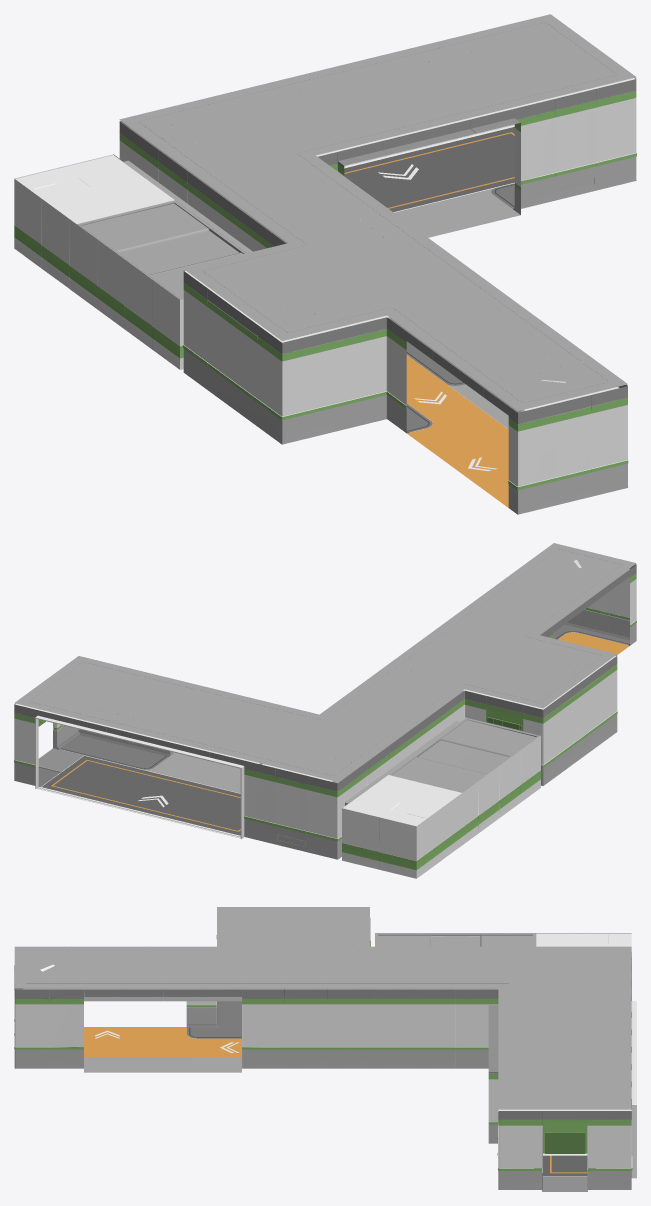
3 views of the same model, one above another, from view 1: azimuth 30°, elevation 25°; view 2: azimuth 150°, elevation 25°; view 3: azimuth 270°, elevation 25° (orthographic). The views are drawn at different scales.
Visible parts, largest first — view 1: SM_H_Building_FutureTech_HBlue_01_InterWall_02; view 2: SM_H_Building_FutureTech_HBlue_01_InterWall_02; view 3: SM_H_Building_FutureTech_HBlue_01_InterWall_02.
Part boxes in pixels (<box>): SM_H_Building_FutureTech_HBlue_01_InterWall_02: <box>14,14,636,514</box>; SM_H_Building_FutureTech_HBlue_01_InterWall_02: <box>14,543,636,878</box>; SM_H_Building_FutureTech_HBlue_01_InterWall_02: <box>14,907,636,1191</box>.
Size of the model in its own units: 1454 by 1132 by 210.
